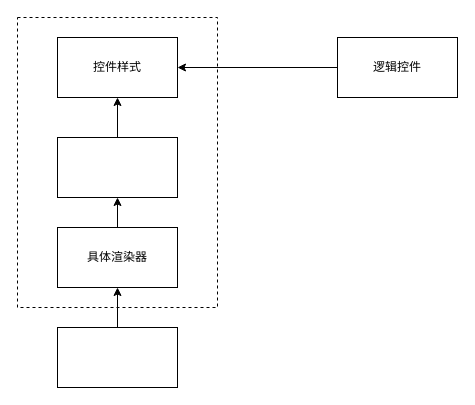
The diagram is 475 pixels wide and 405 high, and some of its shapes have lost their labels. Each missing label, with the centre of its shape:
平台: the point at 117,357
皮肤: the point at 117,167
